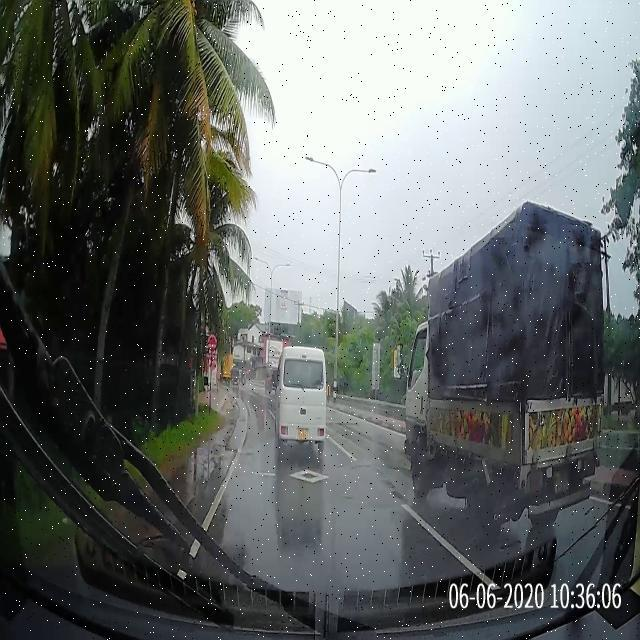diamond: (199, 445, 424, 515)
